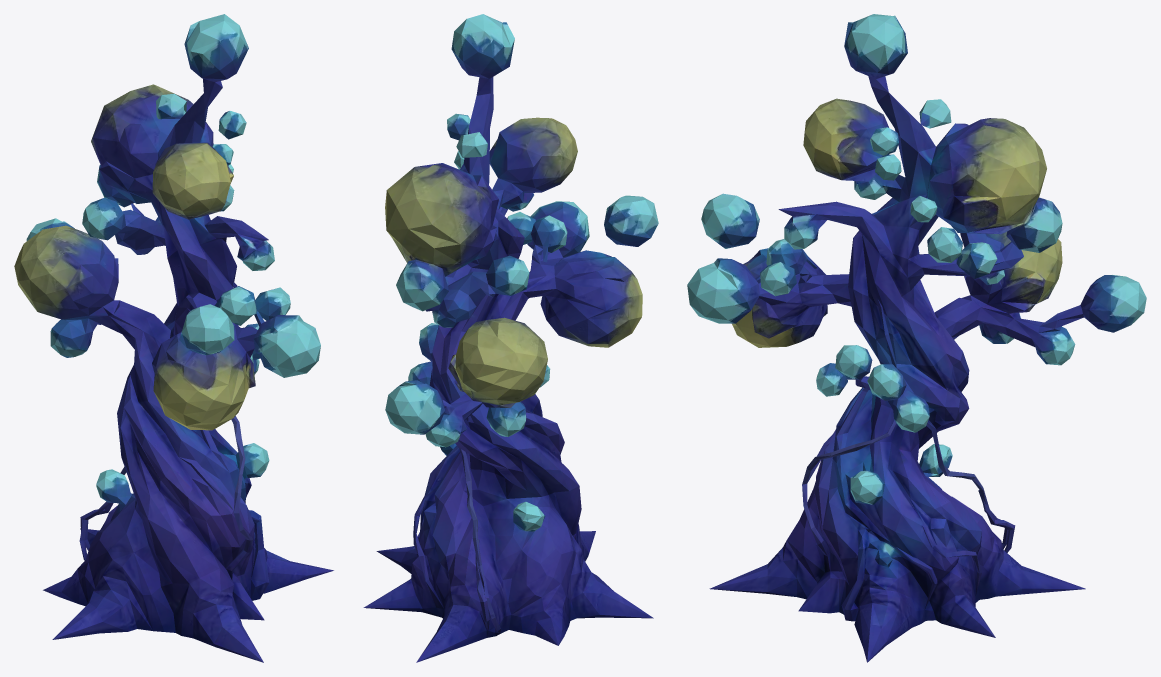
Rendered from tree_alien_LOD0.glb.
3 renders of one model, left to right at view 1: azimuth 30°, elevation 25°; view 2: azimuth 150°, elevation 25°; view 3: azimuth 270°, elevation 25°, orthographic. The views are drawn at different scales.
Parts seen in each view (by area): view 1: tree_alien_LOD0; view 2: tree_alien_LOD0; view 3: tree_alien_LOD0.
Boxes of the visible parts, x1=… form: tree_alien_LOD0: x1=14, y1=14, x2=333, y2=662; tree_alien_LOD0: x1=363, y1=14, x2=658, y2=662; tree_alien_LOD0: x1=687, y1=14, x2=1146, y2=662.
Size of the model in its own units: 0.5144 by 0.9995 by 0.7042.
1 material, 1 textured.
